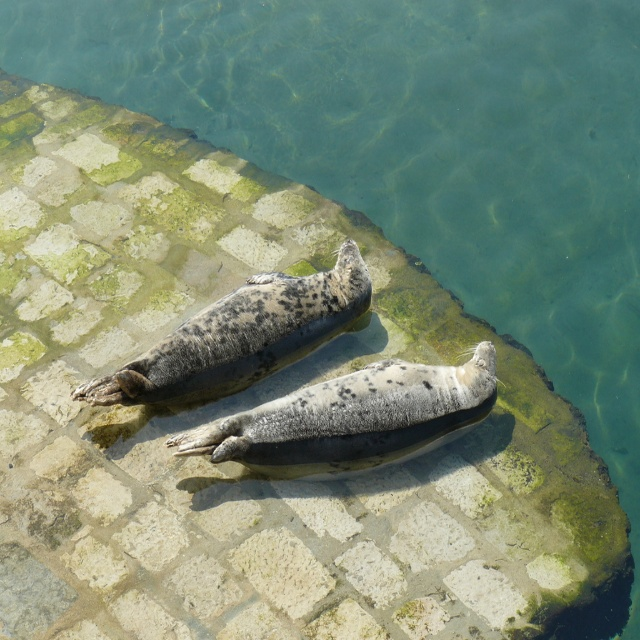Harbor seal: (70, 236, 374, 410), (225, 342, 491, 486)
